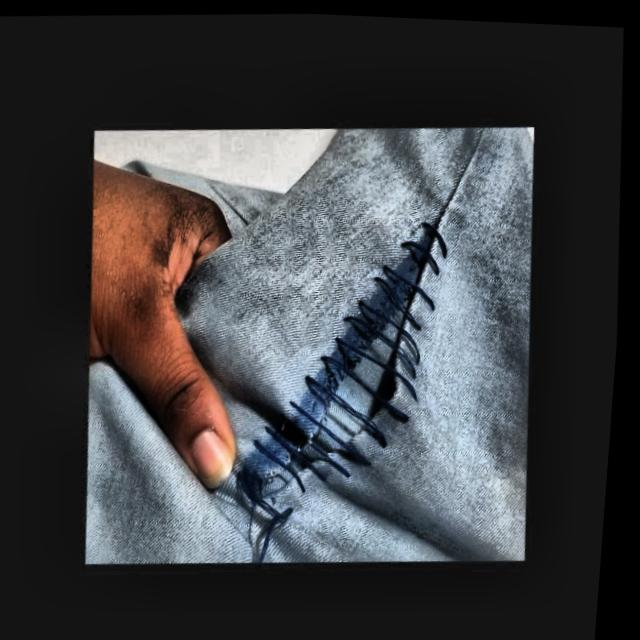Stitch: (224, 195, 493, 550)
